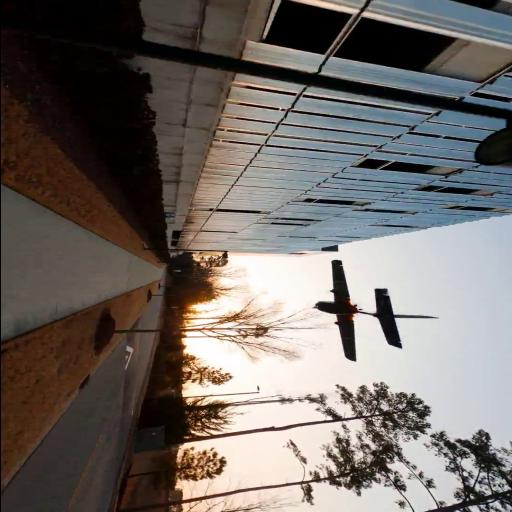uav: (310, 258, 446, 363)
